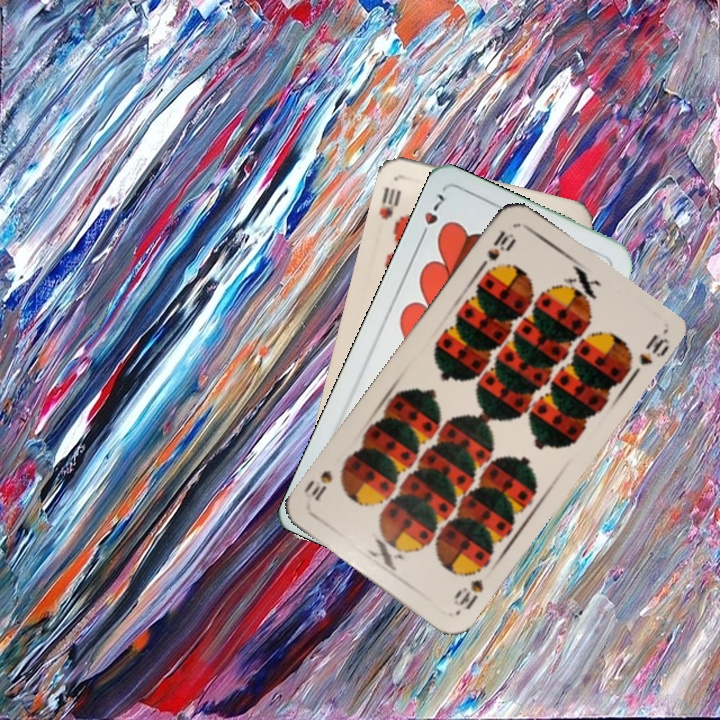H10: (375, 182, 404, 222)
H7: (415, 189, 447, 244)
S10: (475, 226, 517, 273), (449, 575, 487, 616)
